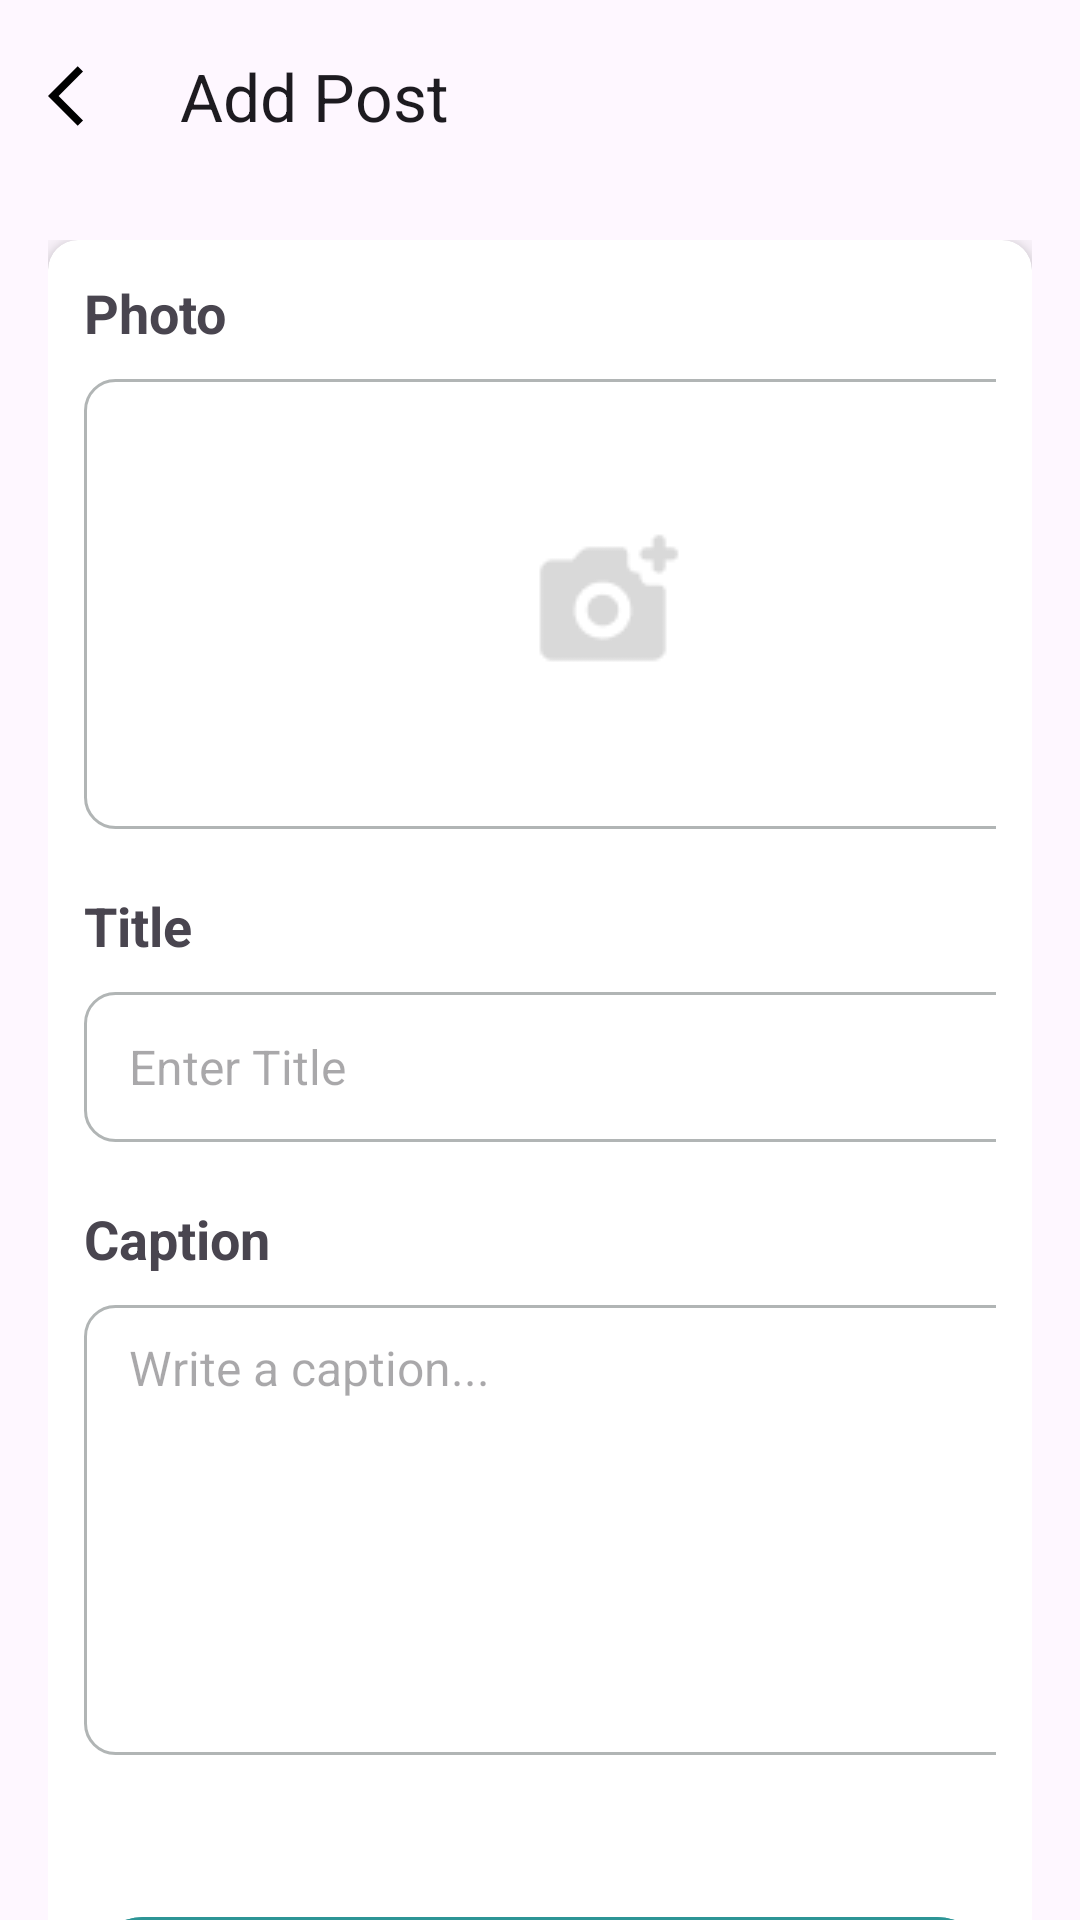

Icons on this 1080*1920 Android screen, each with its box as [left=x1, top=y1, right=x2, bottom=y2]:
Upload Image: [left=541, top=536, right=677, bottom=660]
